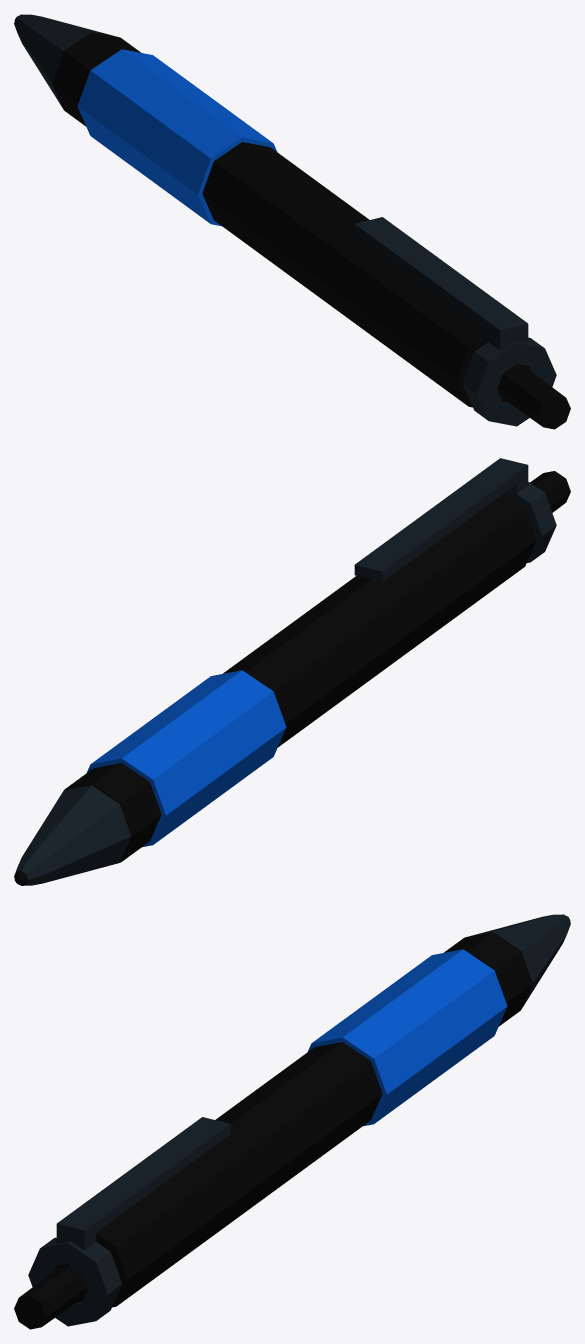
File: Pen.fbx
3 renders of one model, top to bottom at view 1: azimuth 30°, elevation 25°; view 2: azimuth 150°, elevation 25°; view 3: azimuth 330°, elevation 25°, orthographic.
Parts seen in each view (by area): view 1: Circle.002_Circle.004; view 2: Circle.002_Circle.004; view 3: Circle.002_Circle.004.
Part boxes in pixels (left/top/right/bottom): Circle.002_Circle.004: left=14, top=14, right=570, bottom=429; Circle.002_Circle.004: left=14, top=458, right=570, bottom=885; Circle.002_Circle.004: left=14, top=914, right=570, bottom=1329.
Size of the model in its own units: 0.9598 by 1.06 by 10.07.
